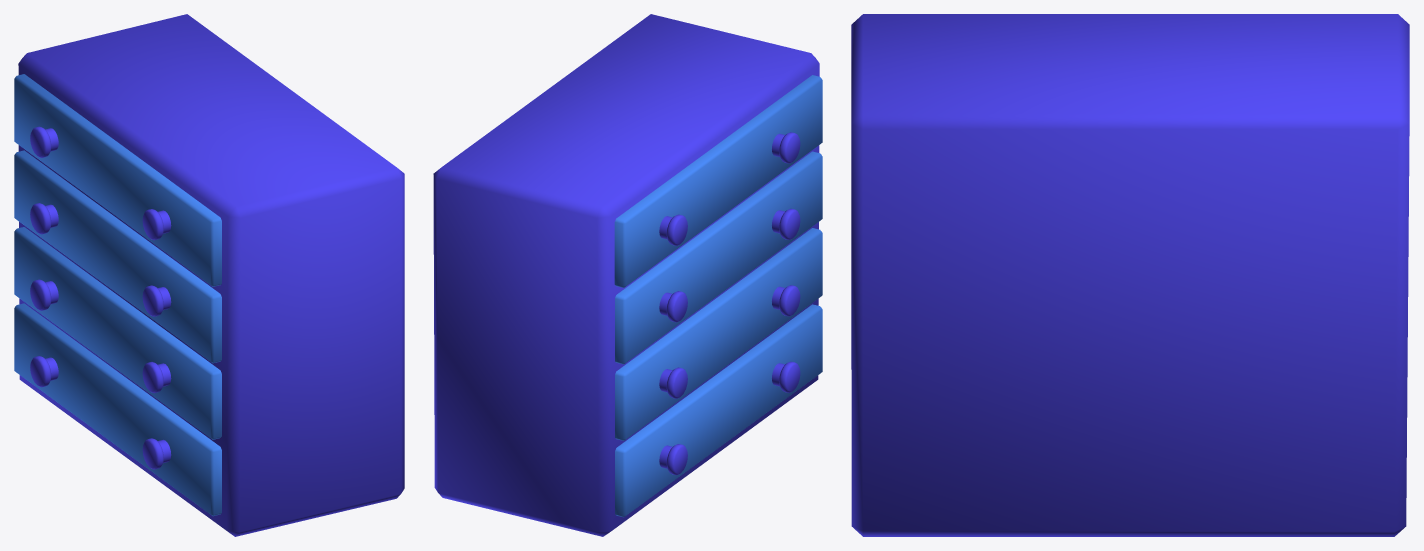
Rendered from Drawers_01.glb.
3 renders of one model, left to right at view 1: azimuth 30°, elevation 25°; view 2: azimuth 150°, elevation 25°; view 3: azimuth 270°, elevation 25°, orthographic. The views are drawn at different scales.
Parts seen in each view (by area): view 1: Drawers; view 2: Drawers; view 3: Drawers.
Boxes of the visible parts, bbox=[...] form: Drawers: bbox=[14, 14, 404, 536]; Drawers: bbox=[433, 14, 822, 536]; Drawers: bbox=[851, 14, 1409, 536].
Size of the model in its own units: 0.6388 by 0.9974 by 1.19.
Materials: 1 (1 with a texture image).
